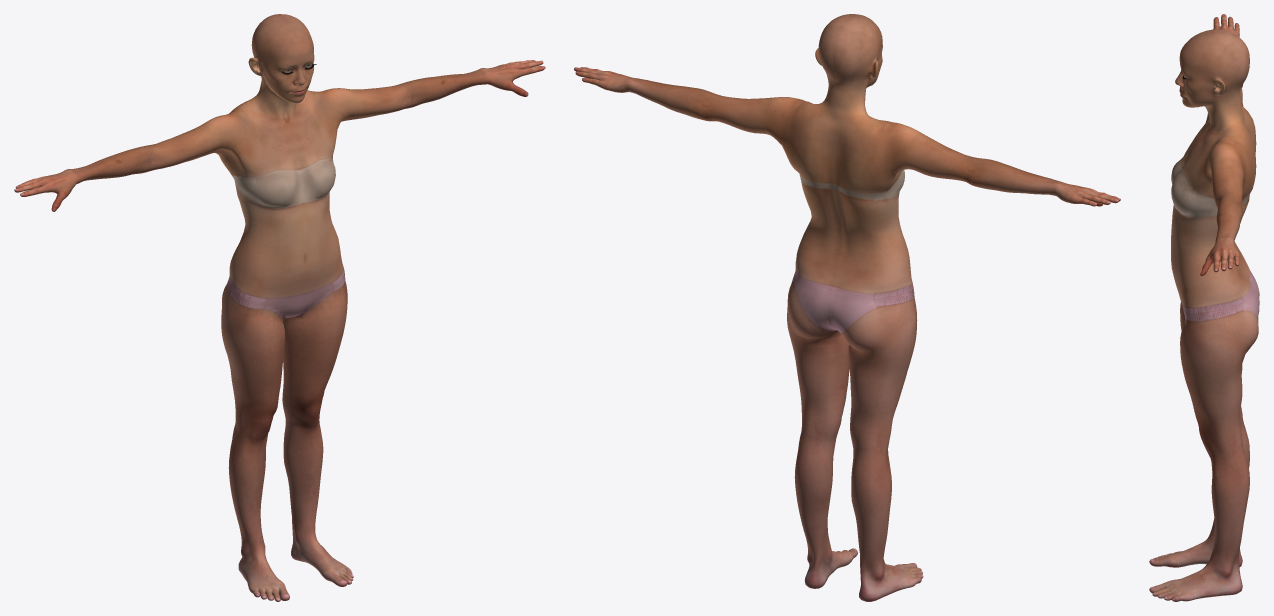
Rendered from AsianFem1.fbx.
The picture shows the model from 3 angles, left to right: view 1: azimuth 30°, elevation 25°; view 2: azimuth 150°, elevation 25°; view 3: azimuth 270°, elevation 25°; orthographic projection. The views are drawn at different scales.
Visible parts, largest first — view 1: Body; view 2: Body; view 3: Body.
Part boxes in pixels (x1,y1,x2,y2): Body: (14,14,545,601); Body: (574,14,1120,601); Body: (1149,14,1259,601).
Size of the model in its own units: 16335 by 16347 by 2981.
